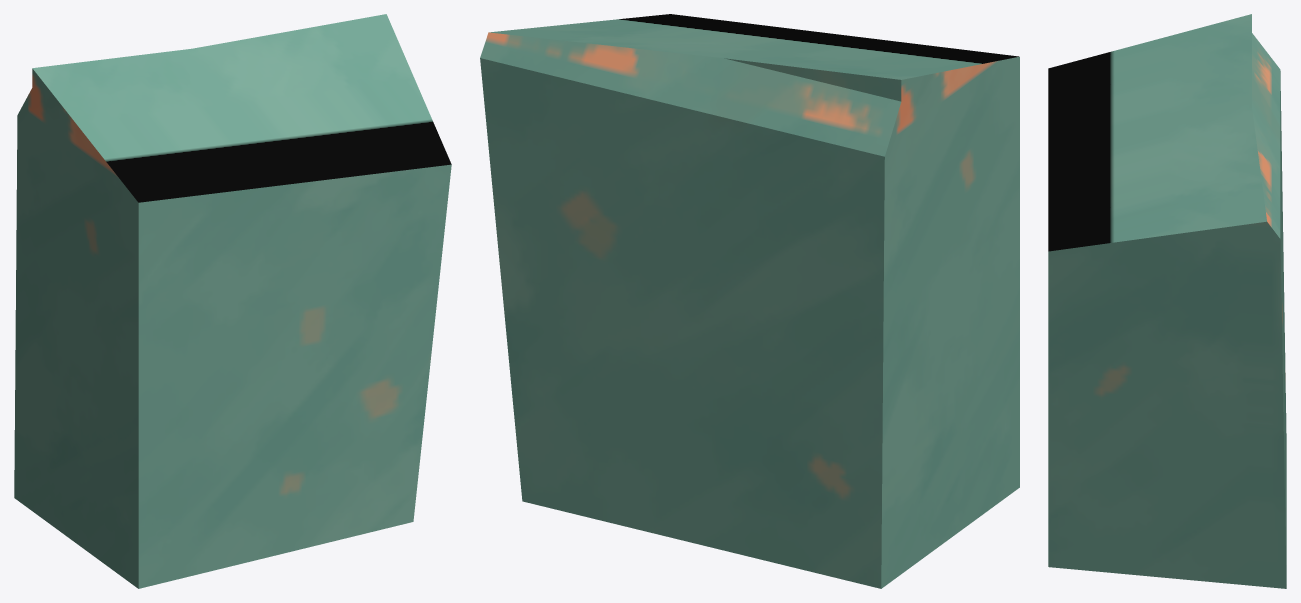
The model's file is wall_plain_s01.fbx.
3 renders of one model, left to right at view 1: azimuth 30°, elevation 25°; view 2: azimuth 150°, elevation 25°; view 3: azimuth 270°, elevation 25°, orthographic. The views are drawn at different scales.
Parts seen in each view (by area): view 1: wall_plain_s01; view 2: wall_plain_s01; view 3: wall_plain_s01.
Boxes of the visible parts, left/top/right/bottom form: wall_plain_s01: left=14, top=14, right=451, bottom=588; wall_plain_s01: left=480, top=14, right=1019, bottom=588; wall_plain_s01: left=1048, top=14, right=1286, bottom=588.
Size of the model in its own units: 1.97 by 2.3 by 1.17.
